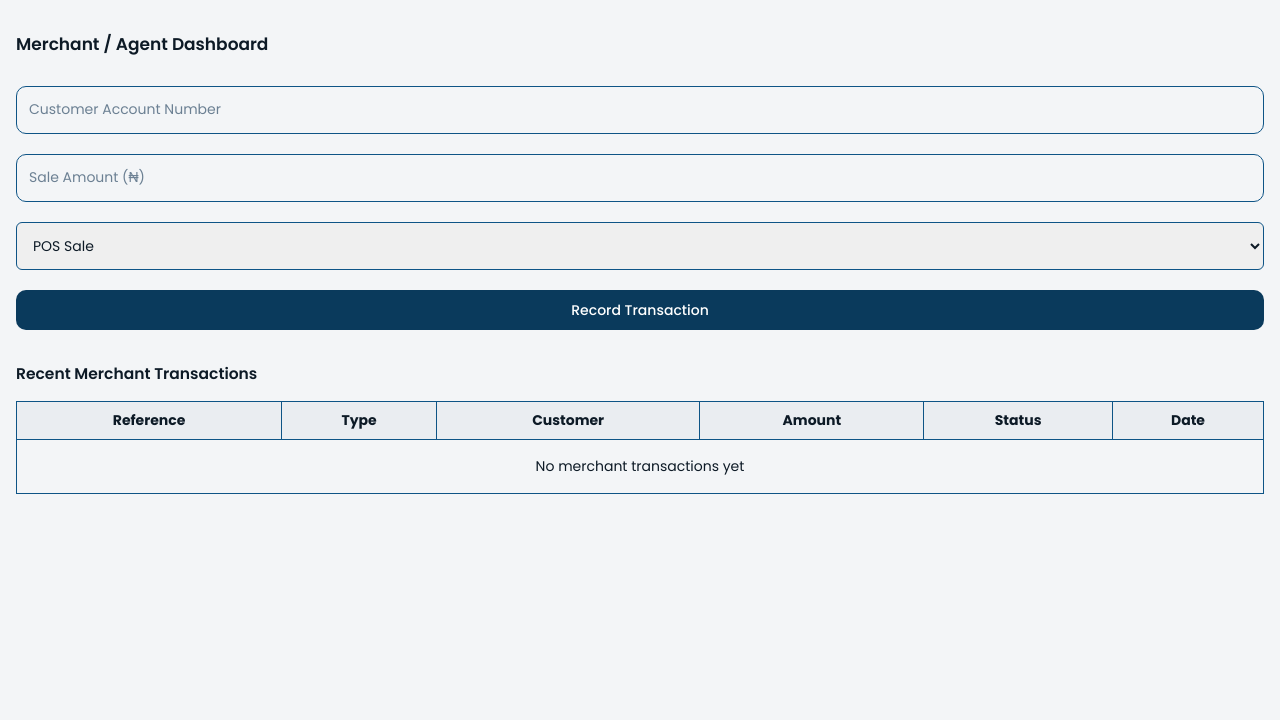
Test: MerchantDashboardPage › blocks submission for invalid customer account format
Type "John Doe" into the field with placeholder "Customer Account Number". click: x=640, y=110
box: [16,86,1264,134]
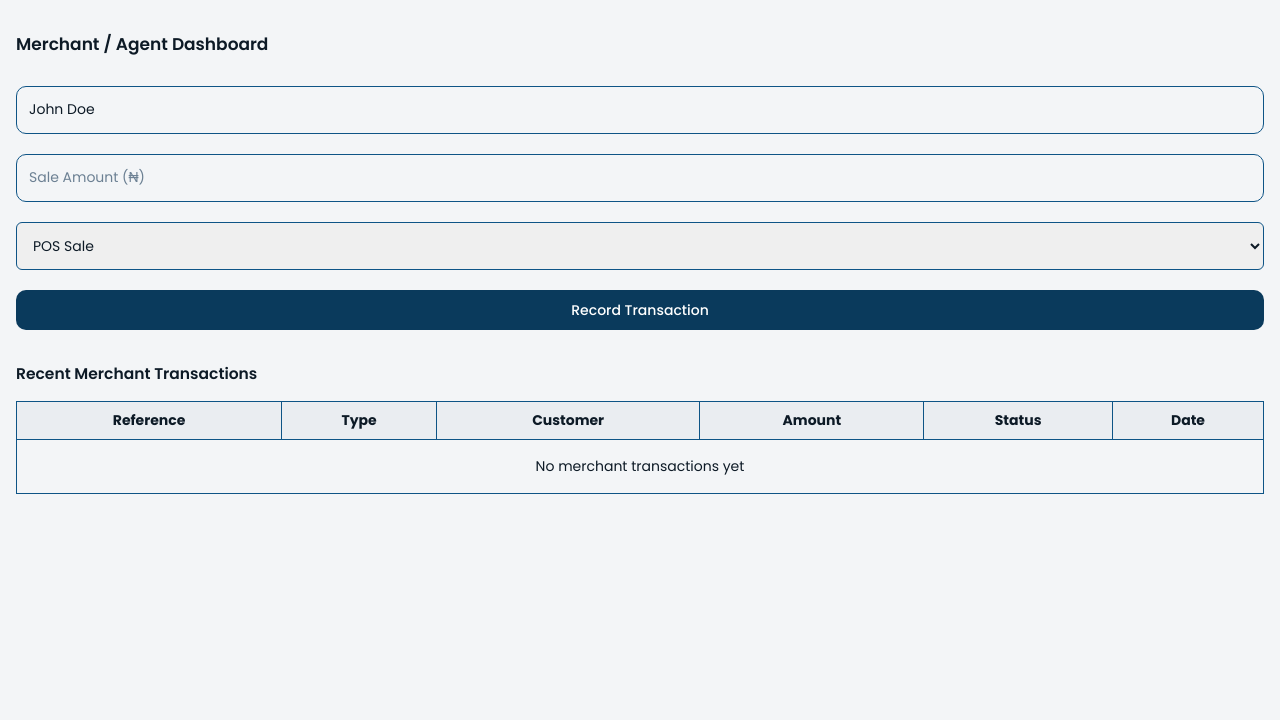
Type "5000" into the number field with placeholder "Sale Amount (₦)". click: x=640, y=178
box: [16,154,1264,202]
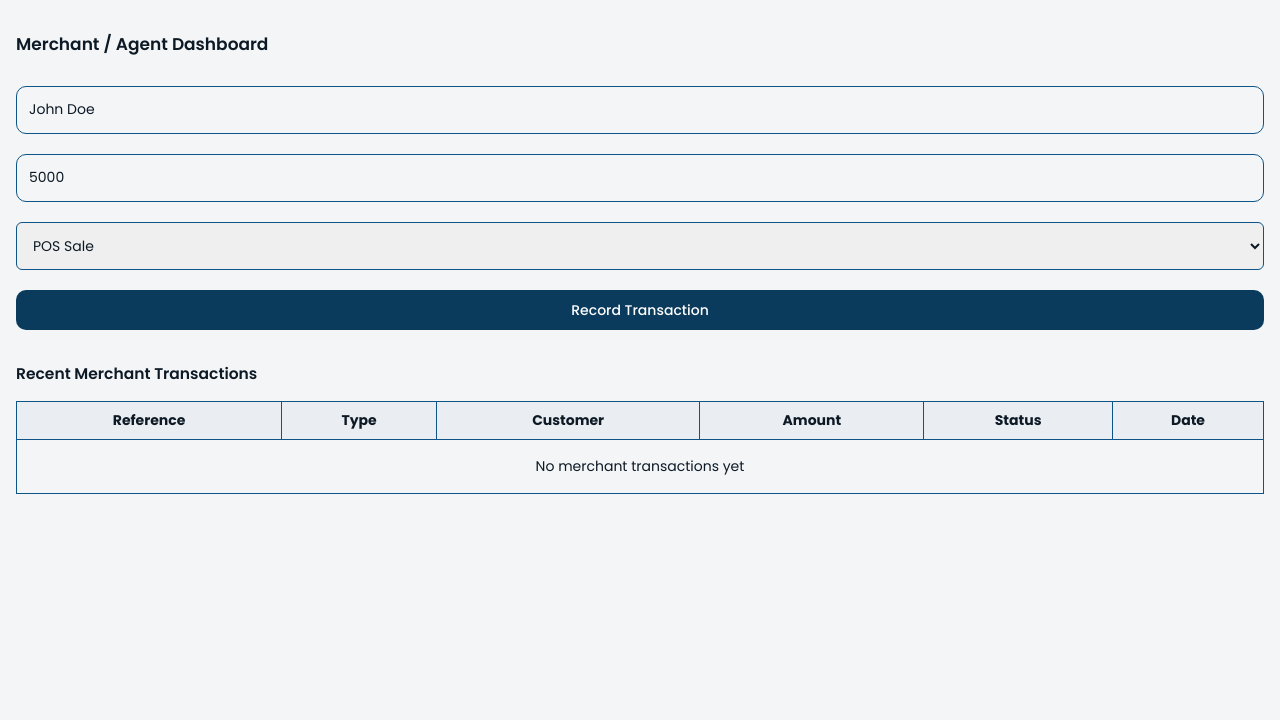
Click the button "Record Transaction". click: x=640, y=310
box: [16,290,1264,330]
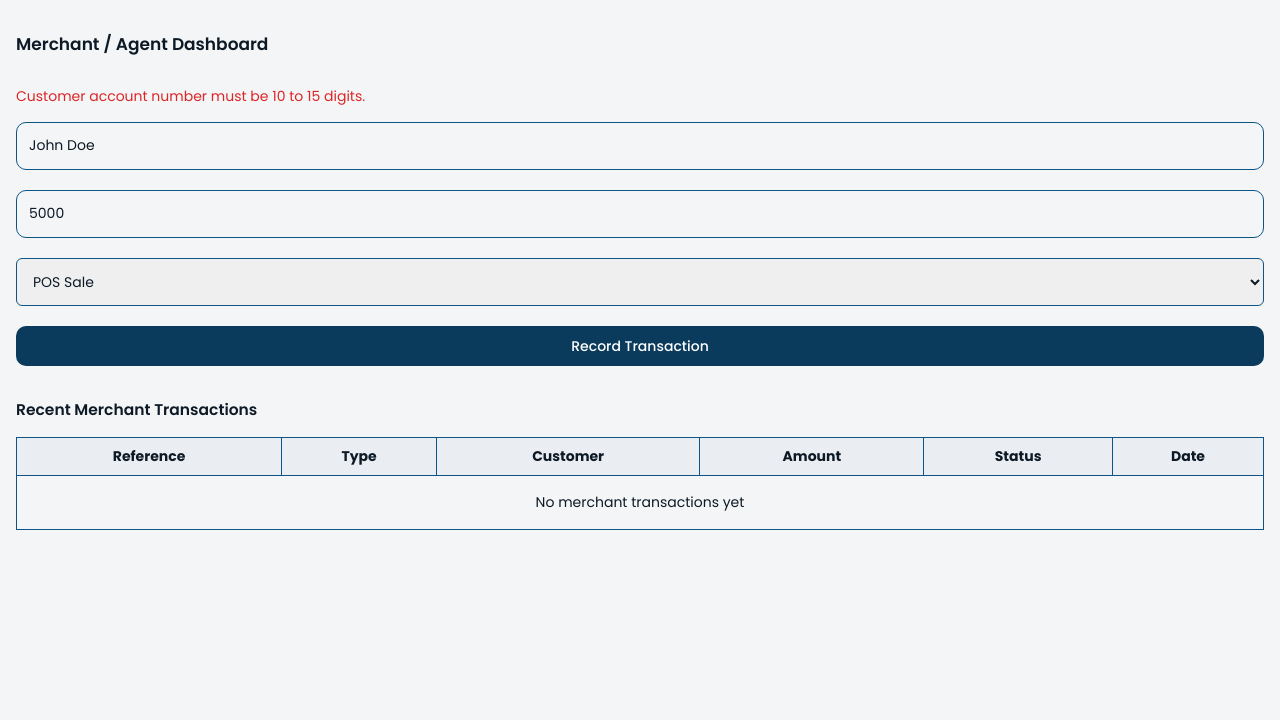
Expected: the text "Customer account number must be 10 to 15 digits." is shown, [16,86,365,106]
